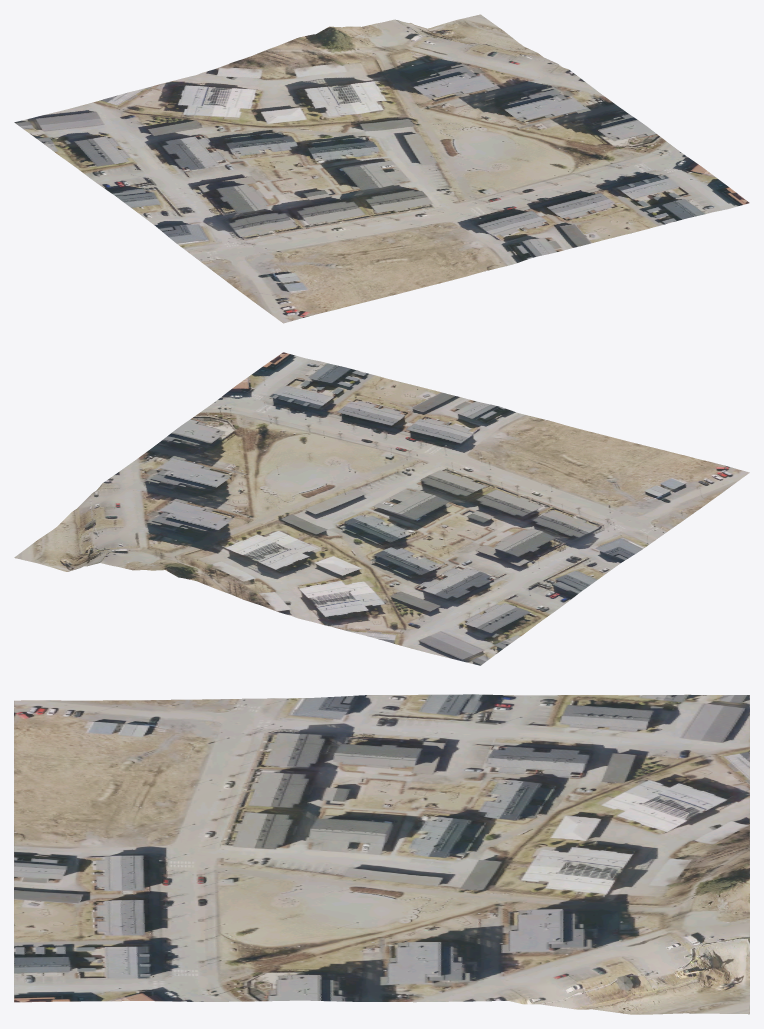
The model's file is CM_Terrain_24490868_6818565.fbx.
3 views of the same model, one above another, from view 1: azimuth 30°, elevation 25°; view 2: azimuth 150°, elevation 25°; view 3: azimuth 270°, elevation 25° (orthographic). The views are drawn at different scales.
Visible parts, largest first — view 1: CM_Terrain_24490868_6818565_LOD0; view 2: CM_Terrain_24490868_6818565_LOD0; view 3: CM_Terrain_24490868_6818565_LOD0.
Part boxes in pixels (x1,y1,x2,y2): CM_Terrain_24490868_6818565_LOD0: (14,14,749,323); CM_Terrain_24490868_6818565_LOD0: (14,352,749,665); CM_Terrain_24490868_6818565_LOD0: (14,694,749,1014).
Size of what is drawn, in the model's own units: 205 by 11.16 by 205.
